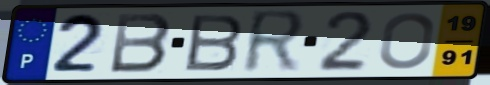2: (47, 9, 111, 78), (318, 9, 376, 73)
B: (107, 12, 174, 75), (183, 13, 246, 73)
O: (377, 10, 437, 71)
R: (239, 8, 310, 77)
